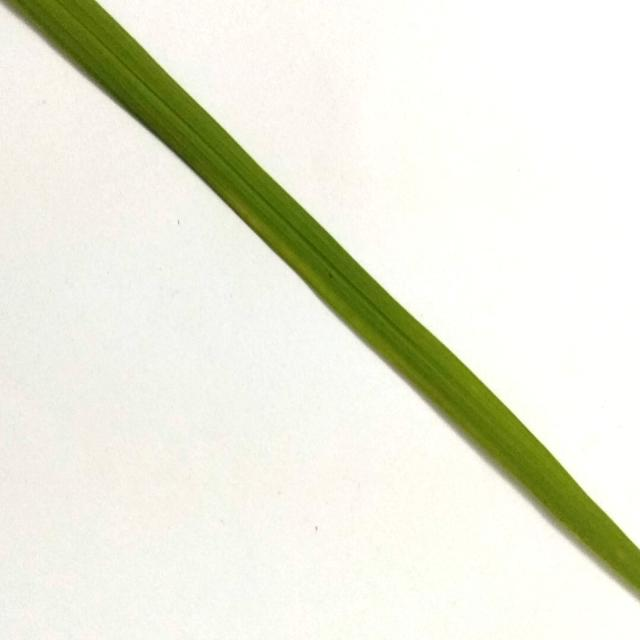Rice_Healthy: (10, 0, 640, 593)
